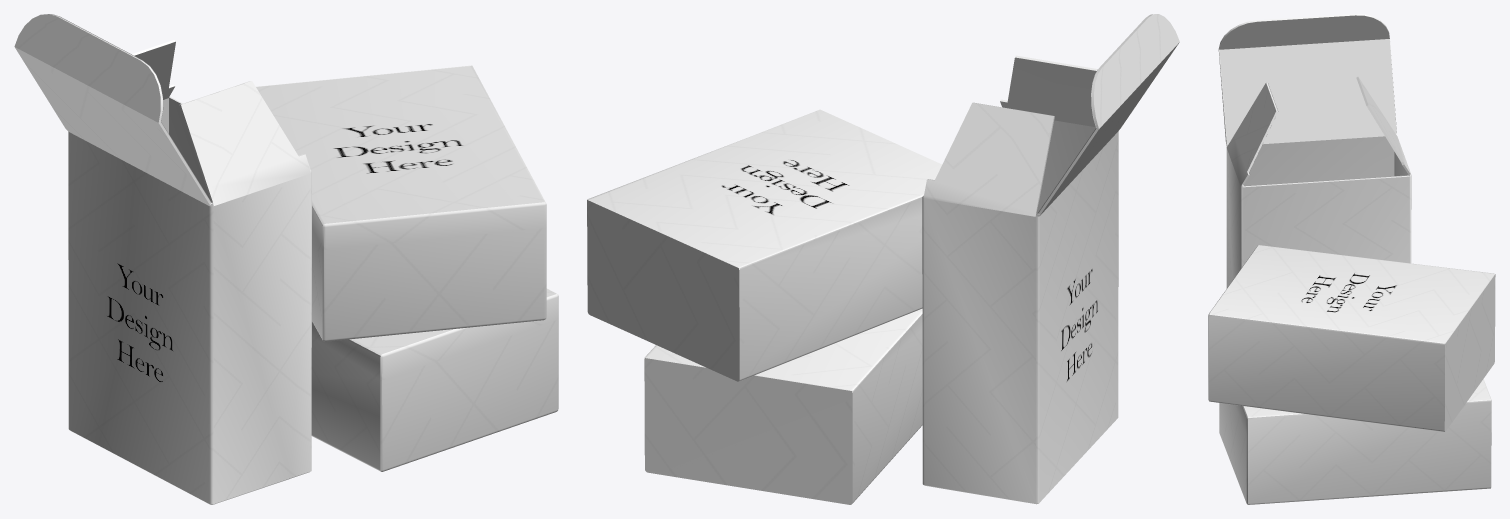
Rendered from Folding A-6.glb.
3 views of the same model, side by side, from view 1: azimuth 30°, elevation 25°; view 2: azimuth 150°, elevation 25°; view 3: azimuth 270°, elevation 25° (orthographic). The views are drawn at different scales.
Visible parts, largest first — view 1: Box4.002, Box4.006, Box4.003, Box4.005, Box4.004; view 2: Box4.002, Box4.006, Box4.003, Box4.005, Box4.004; view 3: Box4.006, Box4.005, Box4.003, Box4.002, Box4.004.
Part boxes in pixels (x1,y1,x2,y2): Box4.002: [14, 14, 311, 504]; Box4.006: [256, 65, 546, 341]; Box4.003: [311, 288, 558, 471]; Box4.005: [51, 14, 303, 202]; Box4.004: [50, 14, 212, 204]; Box4.002: [922, 14, 1179, 504]; Box4.006: [587, 109, 942, 381]; Box4.003: [644, 308, 922, 504]; Box4.005: [928, 14, 1150, 213]; Box4.004: [1000, 14, 1152, 214]; Box4.006: [1208, 245, 1495, 431]; Box4.005: [1219, 15, 1408, 186]; Box4.003: [1219, 379, 1491, 504]; Box4.002: [1226, 77, 1411, 288]; Box4.004: [1218, 14, 1410, 187].
Bounding box in the file's own units: 3.03 × 2.61 × 2.03.
Materials: 2 (1 with a texture image).
